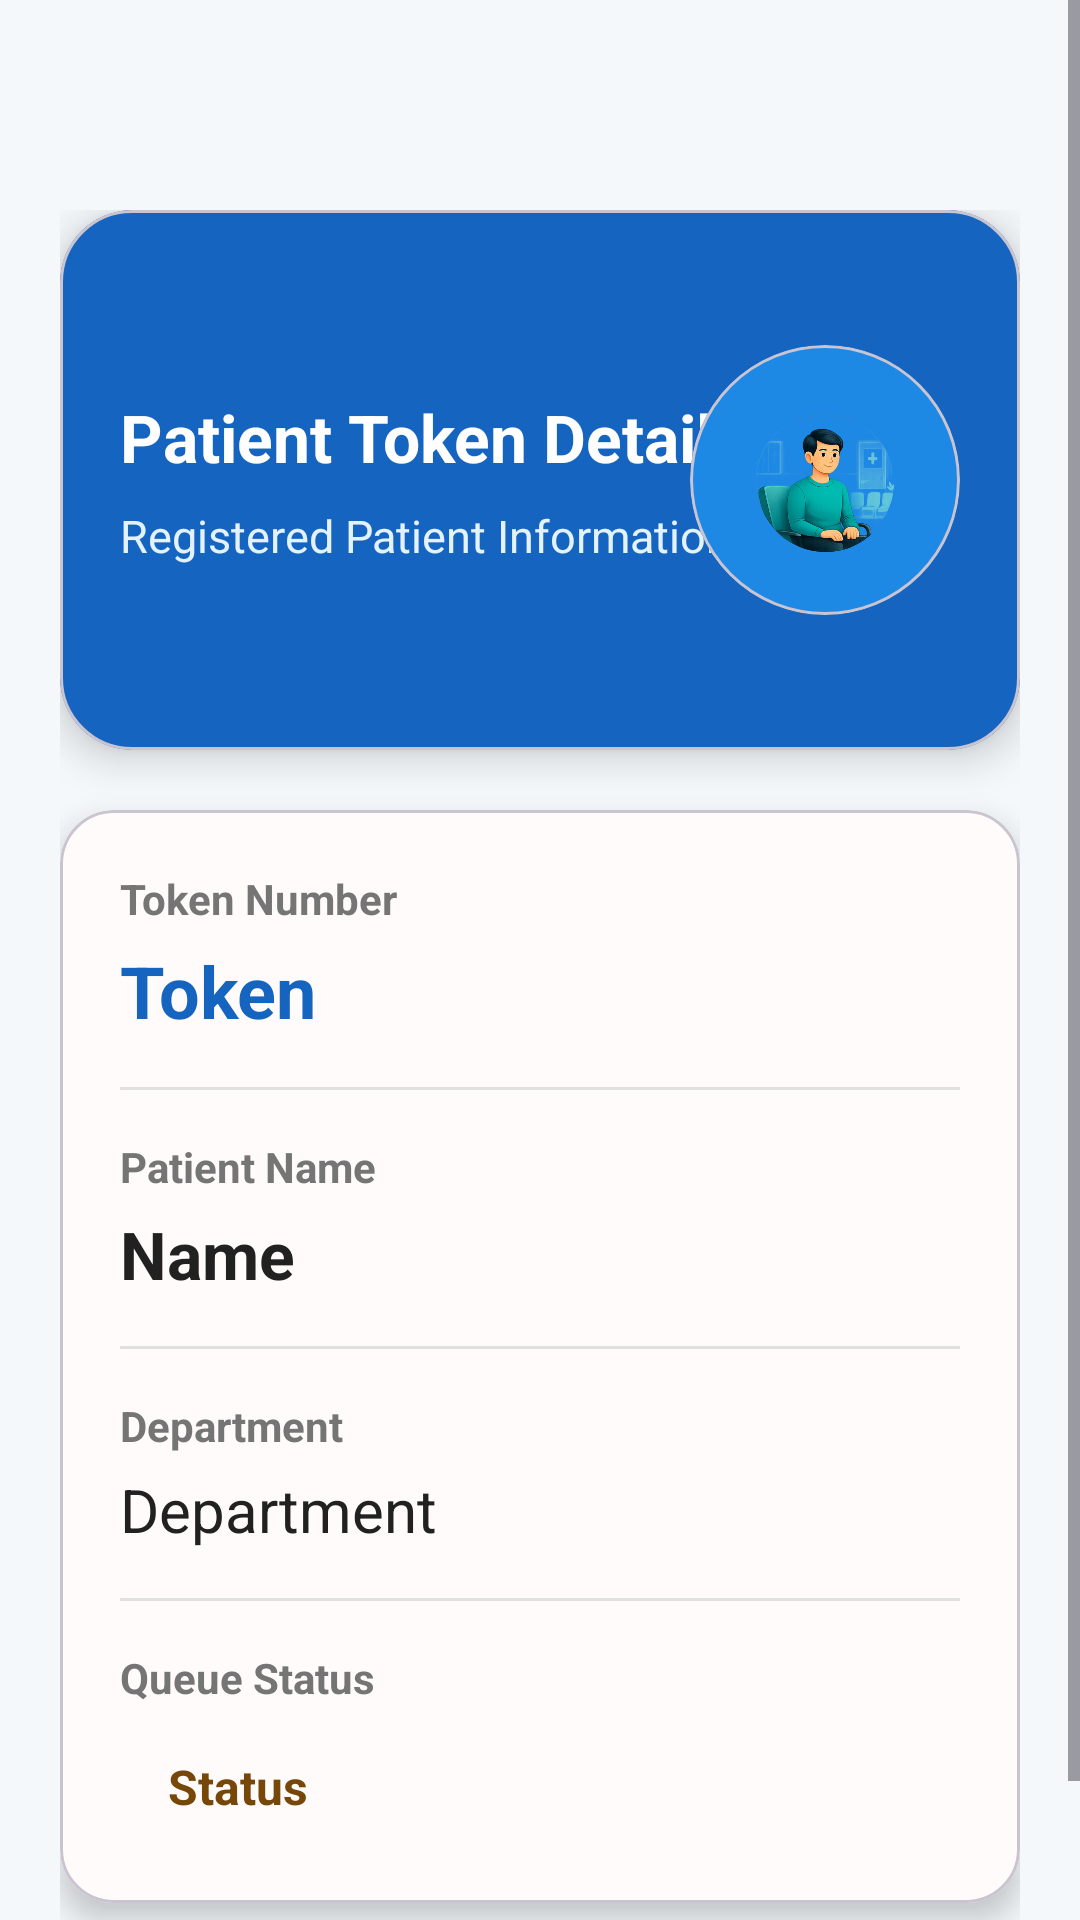

Screen size 1080*1920. Icon name, then its center in pixels as (x,y):
patienticon: (825,480)
